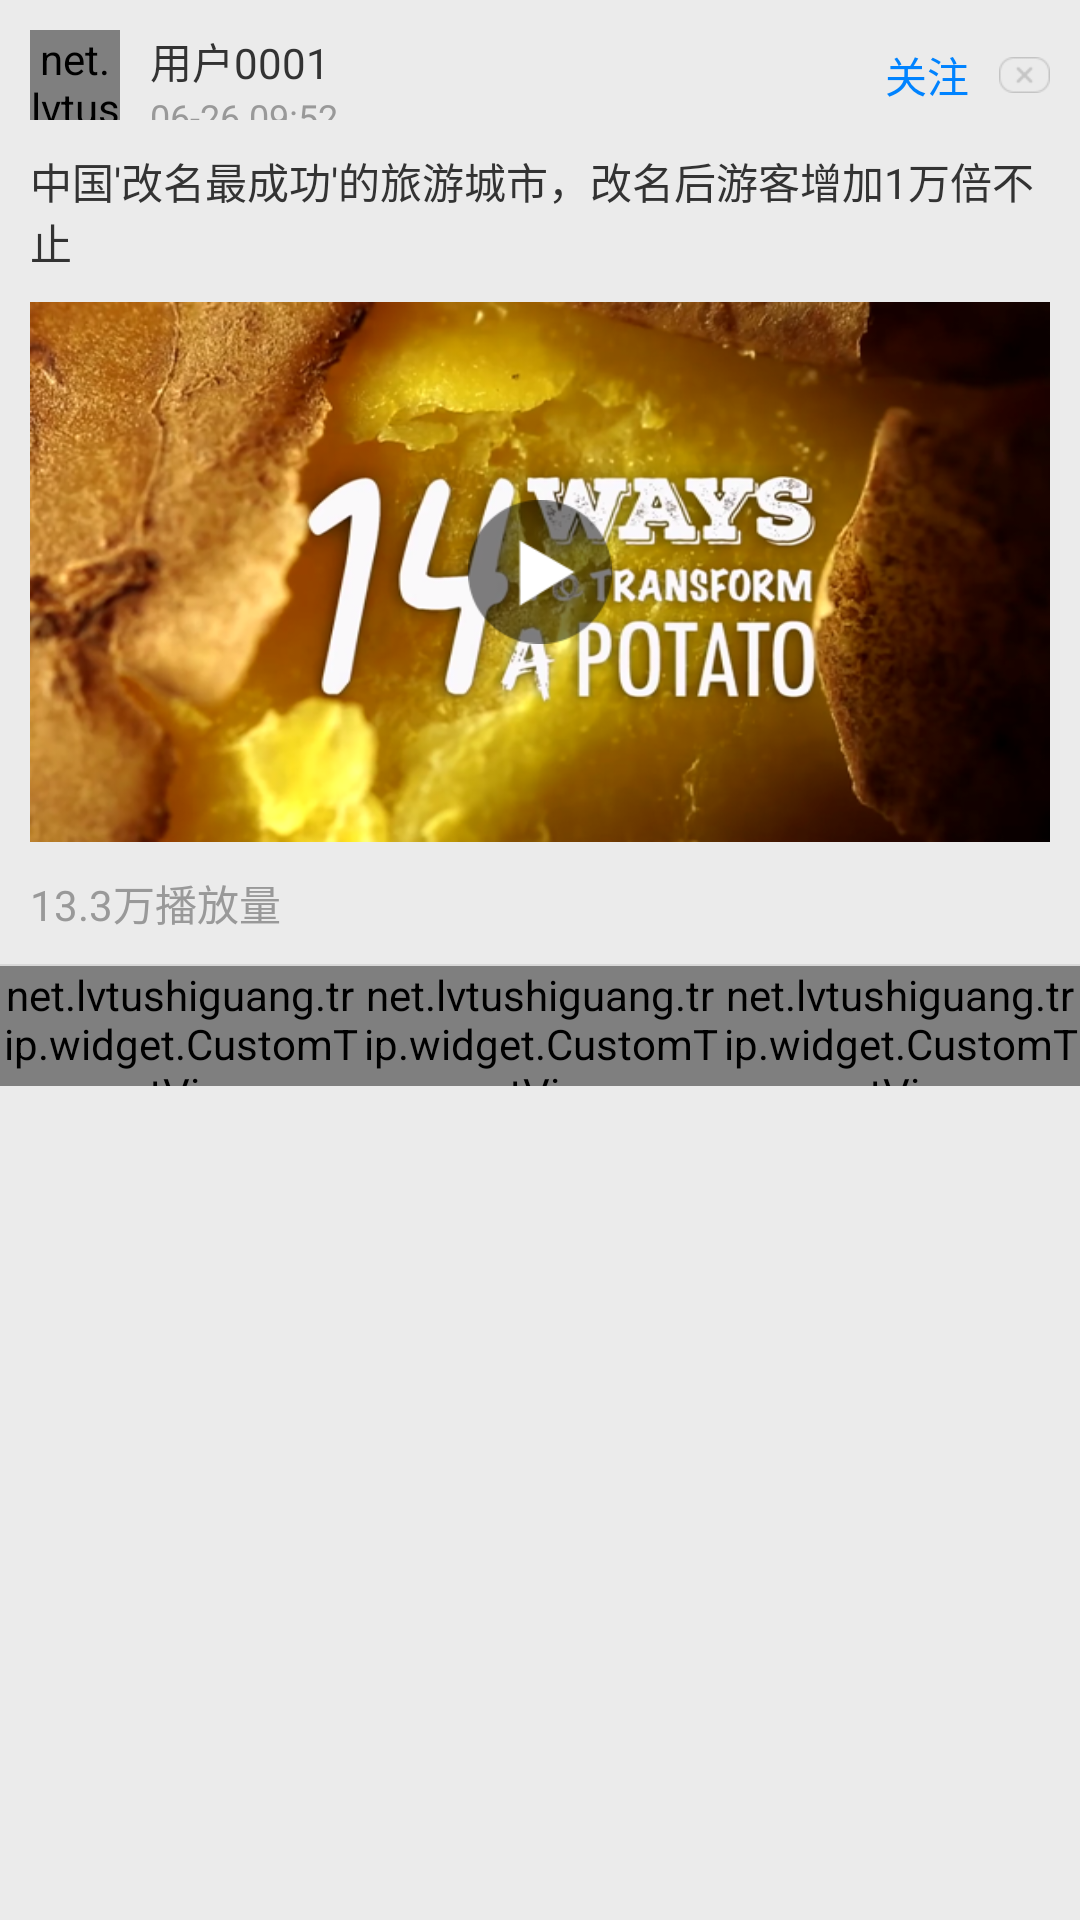

Icon click points for this 1080 × 1920 phone screenshot, format [x,y]:
list cell delete: [1024,75]
video play: [540,572]
